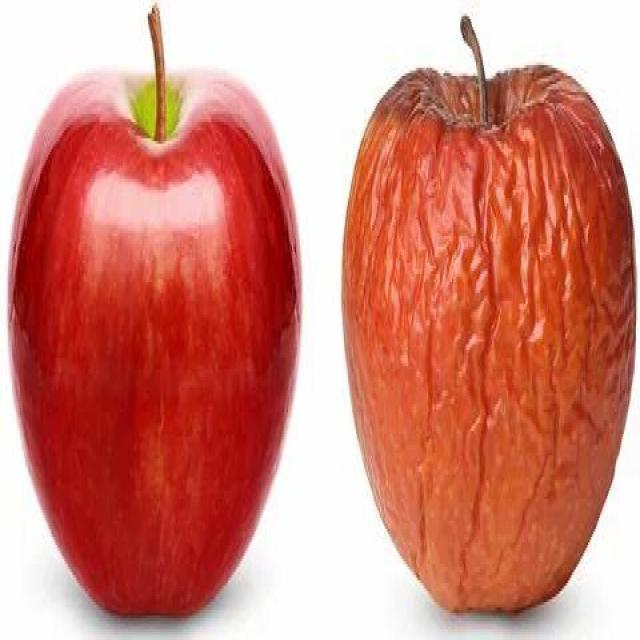fresh_apple: (9, 68, 302, 621)
rotten_apple: (342, 69, 630, 612)
